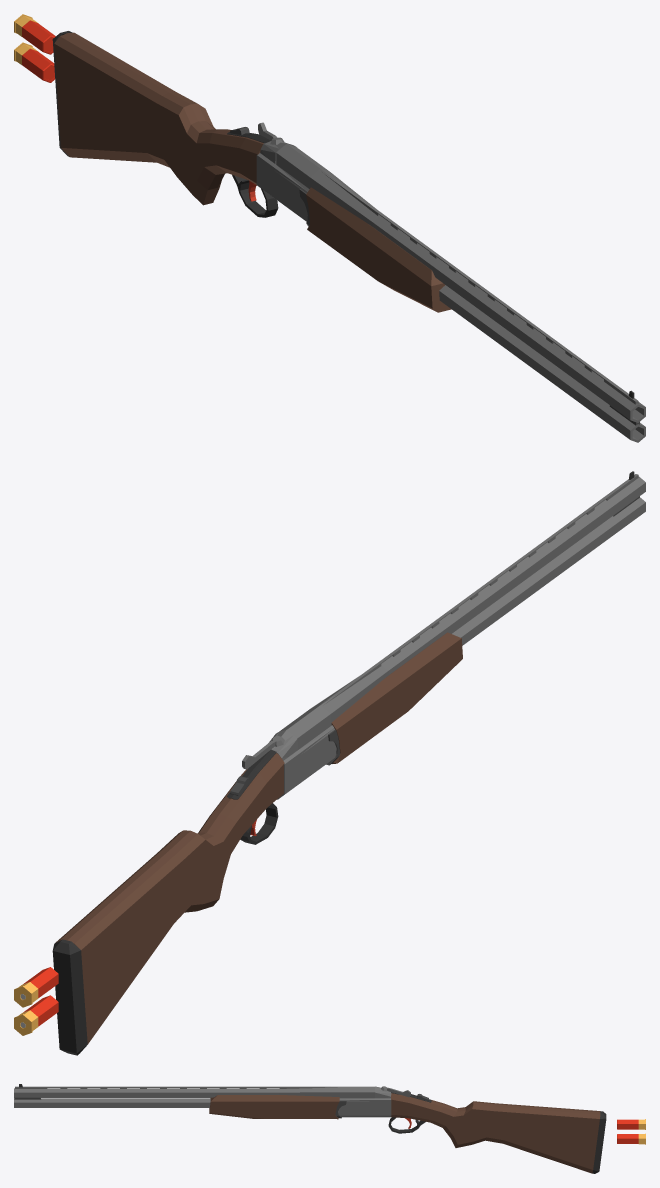
The model's file is DB_Shotgun.fbx.
3 views of the same model, one above another, from view 1: azimuth 30°, elevation 25°; view 2: azimuth 150°, elevation 25°; view 3: azimuth 270°, elevation 25° (orthographic). The views are drawn at different scales.
Visible parts, largest first — view 1: Cube; view 2: Cube; view 3: Cube.
Part boxes in pixels (left/top/right/bottom): Cube: left=14, top=14, right=645, bottom=442; Cube: left=14, top=471, right=645, bottom=1055; Cube: left=14, top=1084, right=645, bottom=1173.
Bounding box in the file's own units: 0.0319 × 1.11 × 0.1723.
